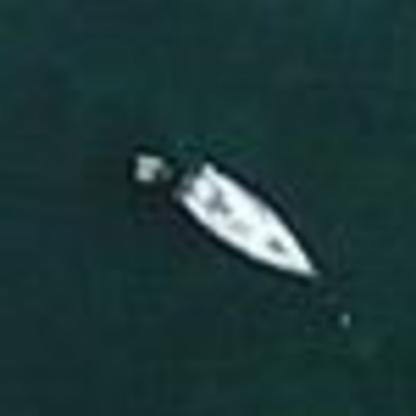ship: (126, 138, 333, 293)
